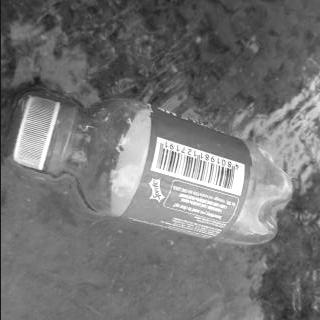bottle: (9, 95, 294, 244)
